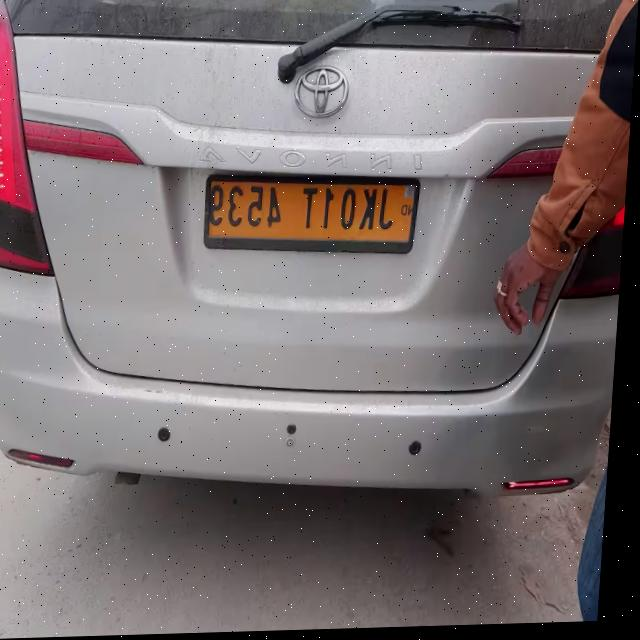plate: (191, 161, 436, 265)
